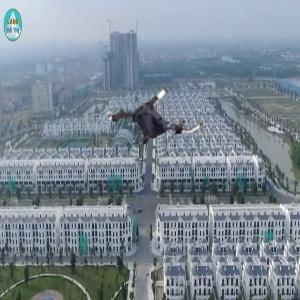drone: (107, 74, 201, 168)
